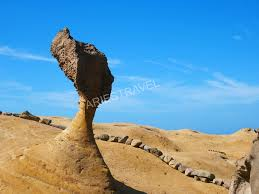yehliu: (42, 25, 126, 107)
